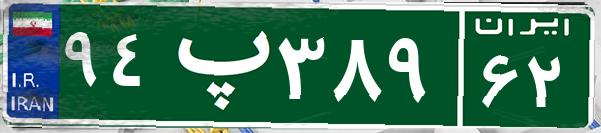2: (525, 38, 570, 115)
3: (273, 28, 330, 110)
4: (110, 28, 158, 105)
6: (475, 38, 525, 113)
8: (330, 28, 385, 110)
9: (385, 28, 445, 110), (57, 26, 110, 107)
پ: (158, 15, 273, 115)
